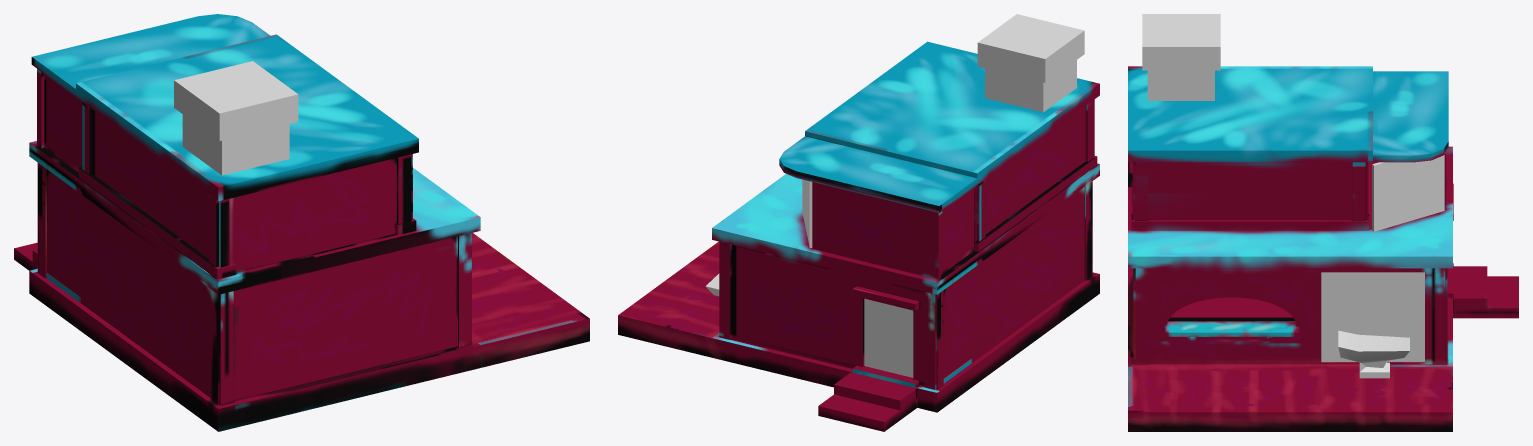
The model's file is smitty.fbx.
3 renders of one model, left to right at view 1: azimuth 30°, elevation 25°; view 2: azimuth 150°, elevation 25°; view 3: azimuth 270°, elevation 25°, orthographic. The views are drawn at different scales.
Visible parts, largest first — view 1: Smitty, Furnace; view 2: Smitty, Furnace, BackDoor, UpperDoor; view 3: Smitty, FrontDoor, Furnace, UpperDoor, Anvil.
Boxes of the visible parts, bbox=[...] form: Smitty: bbox=[14, 14, 589, 431]; Furnace: bbox=[174, 61, 298, 175]; Smitty: bbox=[618, 41, 1099, 431]; Furnace: bbox=[977, 14, 1084, 112]; BackDoor: bbox=[864, 298, 913, 377]; UpperDoor: bbox=[802, 179, 812, 247]; Smitty: bbox=[1128, 66, 1518, 431]; FrontDoor: bbox=[1321, 272, 1424, 361]; Furnace: bbox=[1142, 14, 1220, 100]; UpperDoor: bbox=[1372, 155, 1444, 231]; Anvil: bbox=[1338, 330, 1409, 378].
Bounding box in the file's own units: 17 × 13.56 × 18.04.
1 material, 1 textured.
